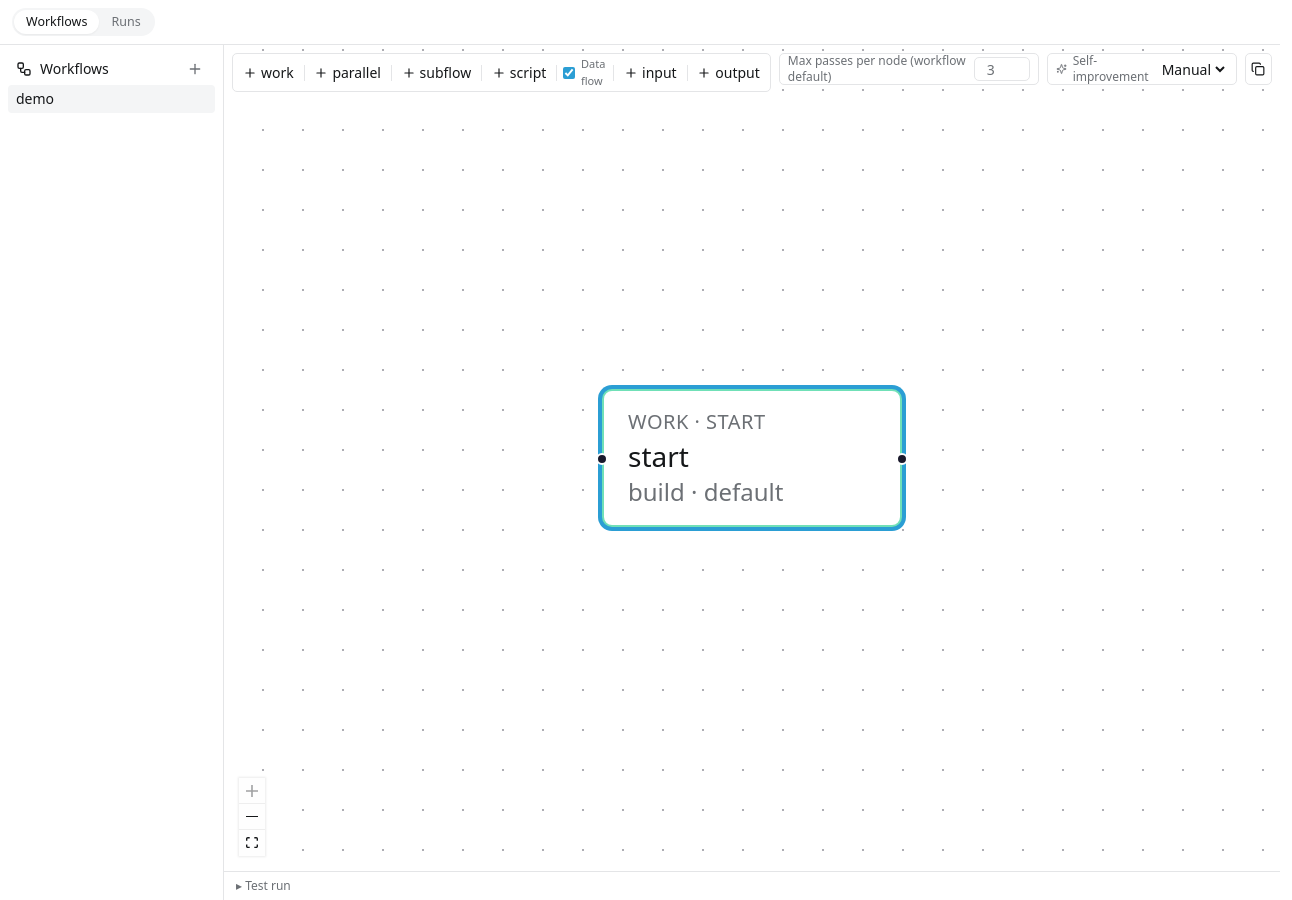
WorkflowsView run detail › shows a needs_input banner with the resume form and resumes into the same run_id
The image size is (1292, 900).
Click the button "▸ Test run": [268, 886] box [224,872,1280,899]
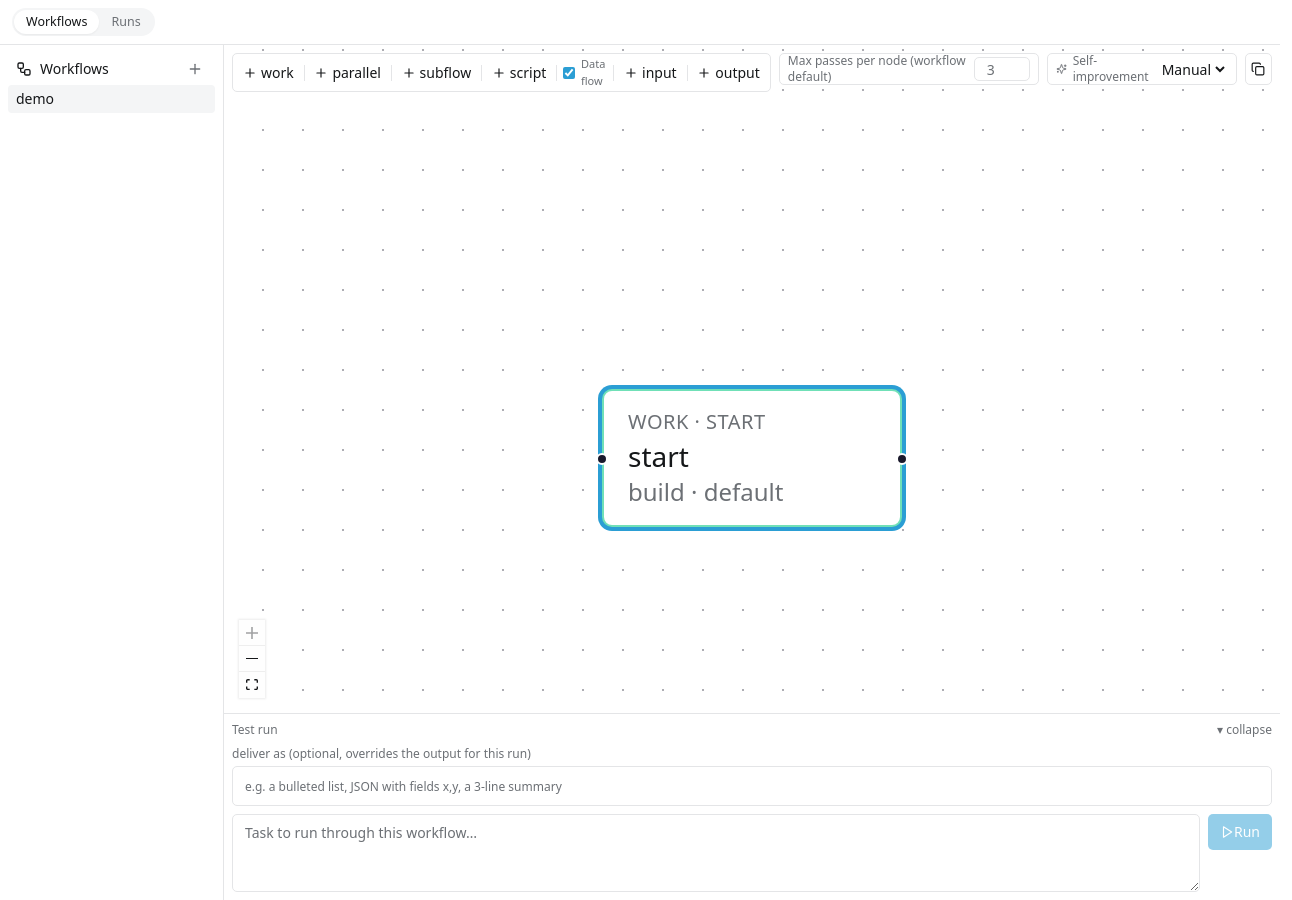
In the text box with placeholder "Task to run through this workflow…": [716, 853] box [232,814,1200,892], type "do the thing"
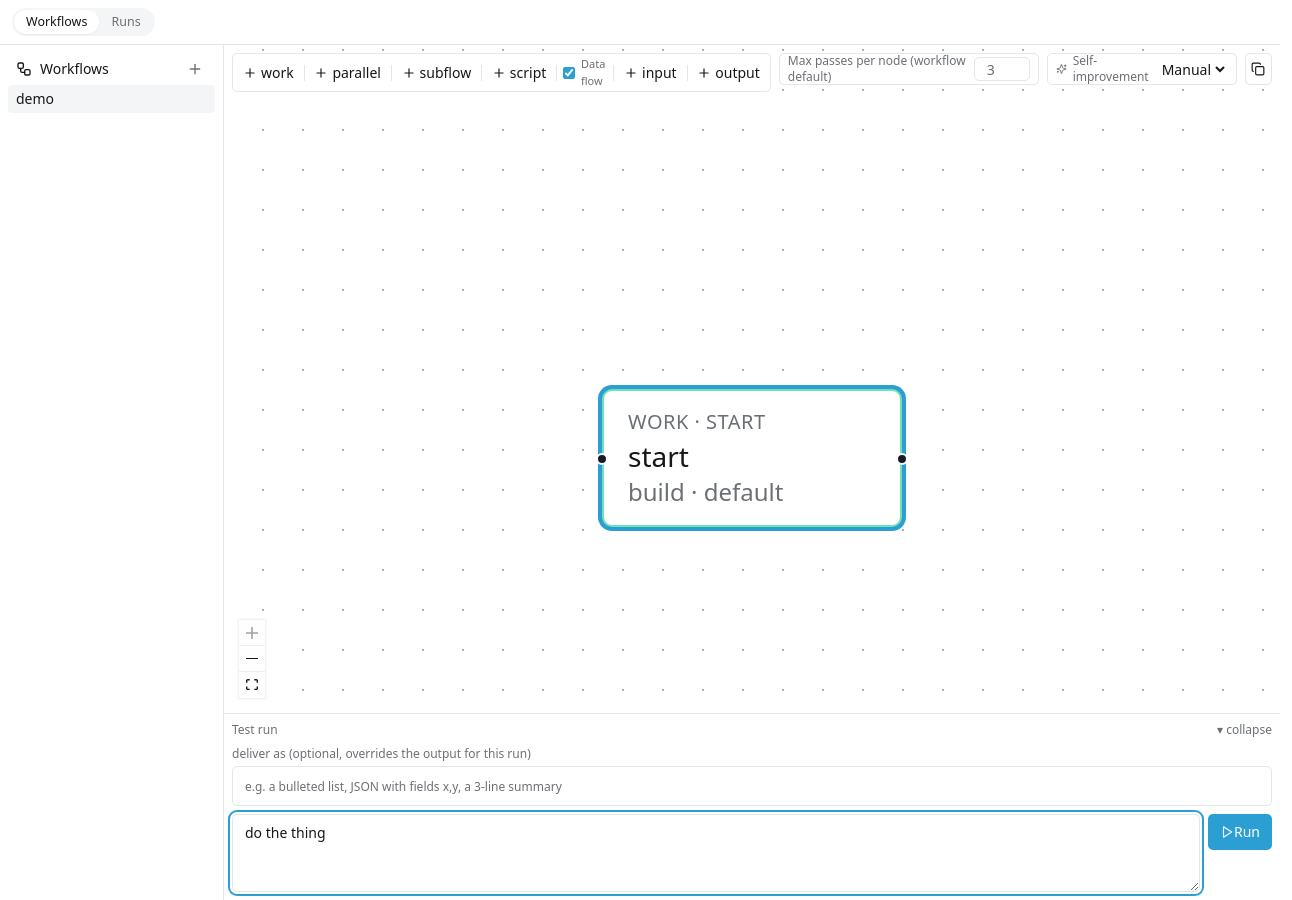
Click the button "Run": [1240, 832] box [1208,814,1272,850]
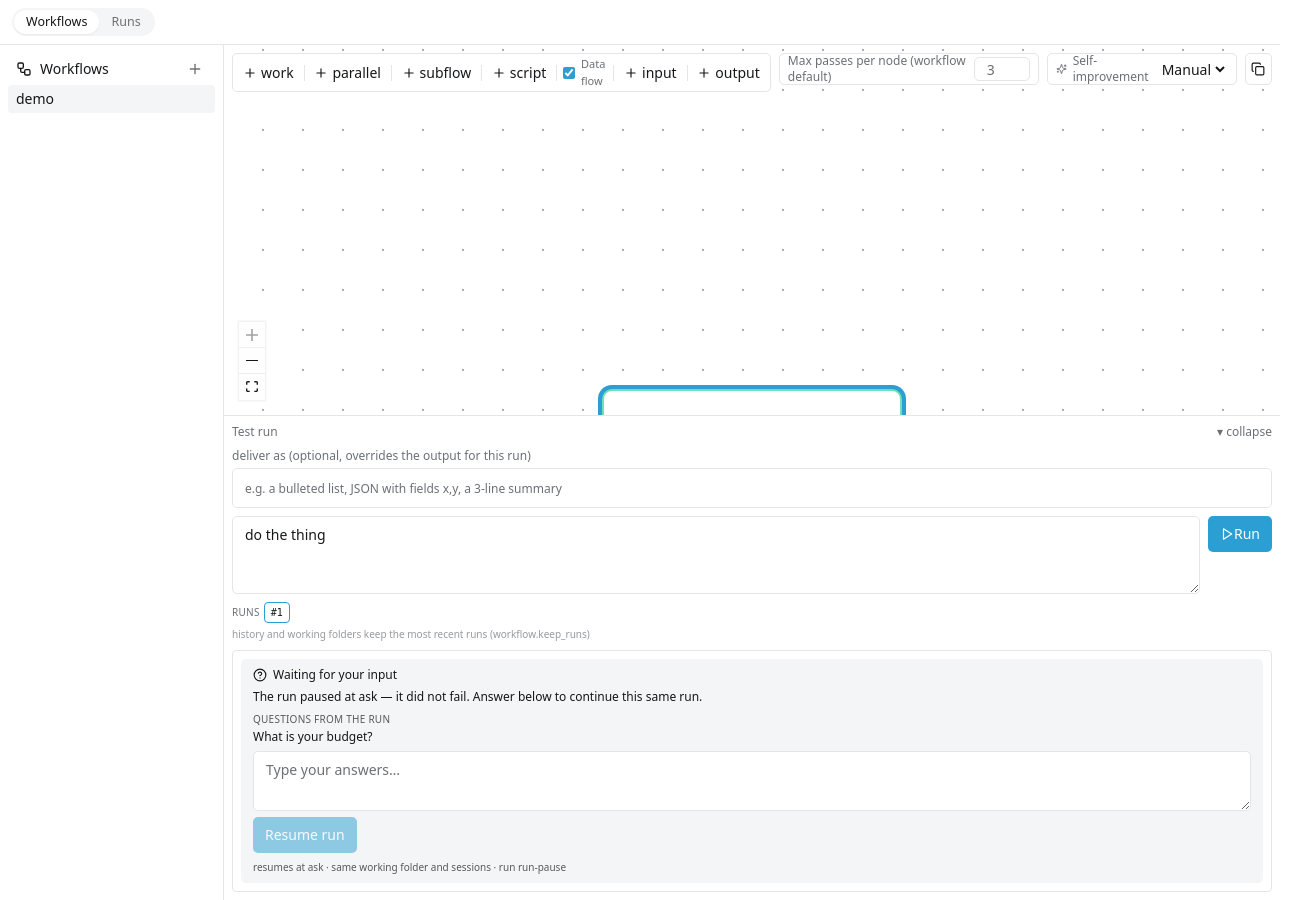
expect the text "Waiting for your input" is shown: met, box [273,667,397,683]
expect the text "What is your budget?" is shown: met, box [253,728,372,745]
In the text box with placeholder "Type your answers…": [752, 781] box [253,751,1251,811], type "$500"
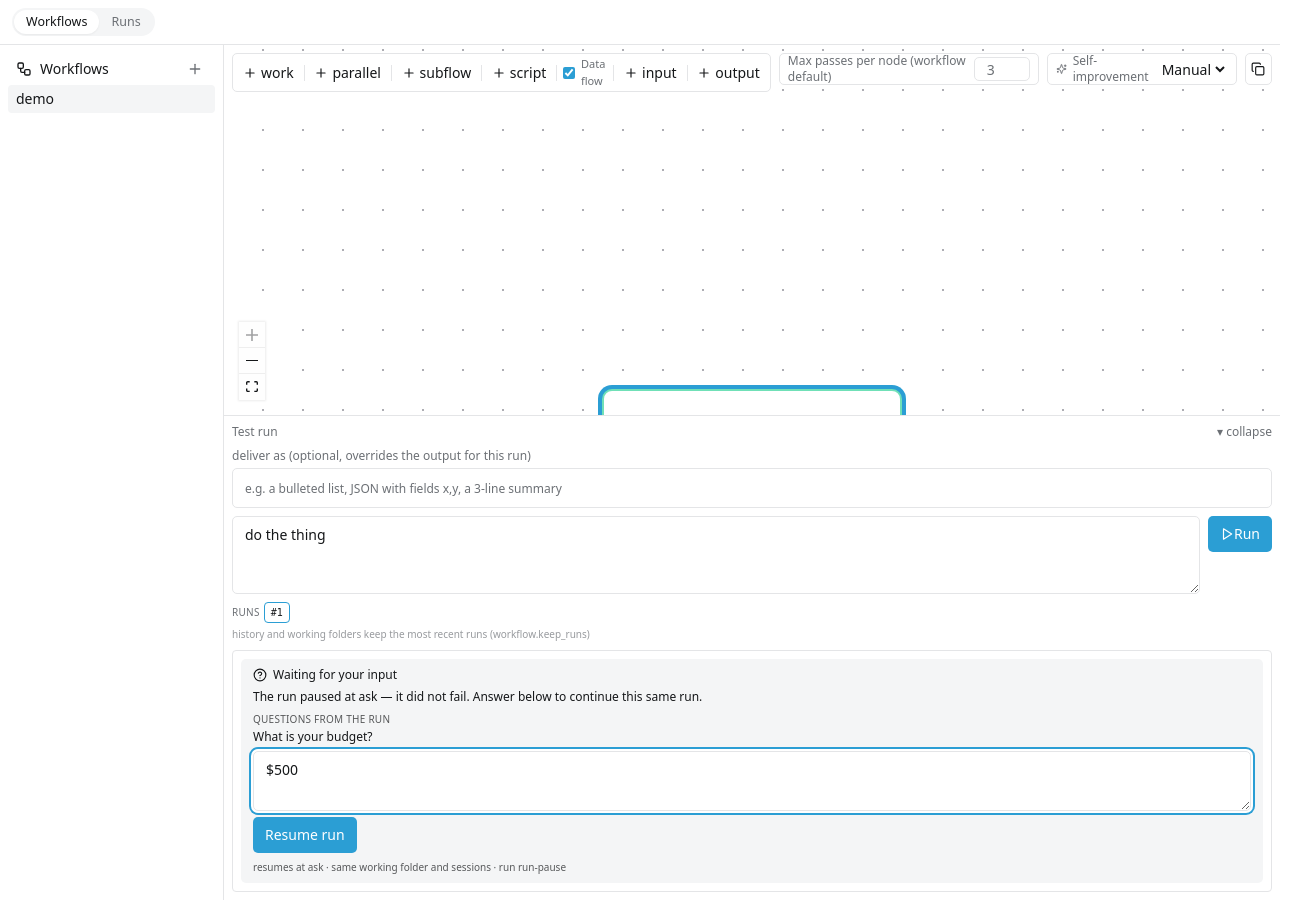
Click the button "Resume run": [305, 835] box [253,817,357,853]
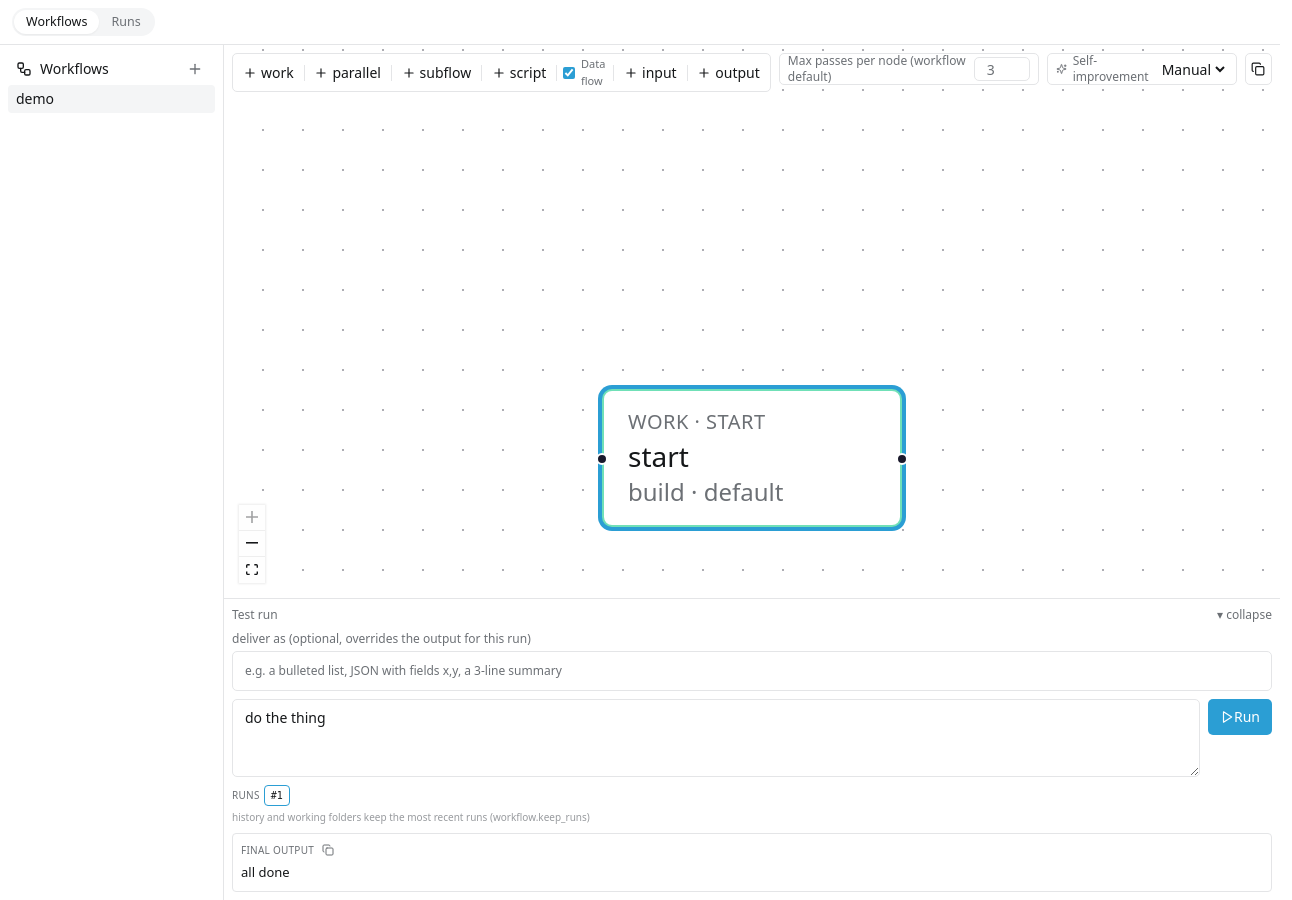
expect the text "all done" is shown: met, box [241,863,290,881]
